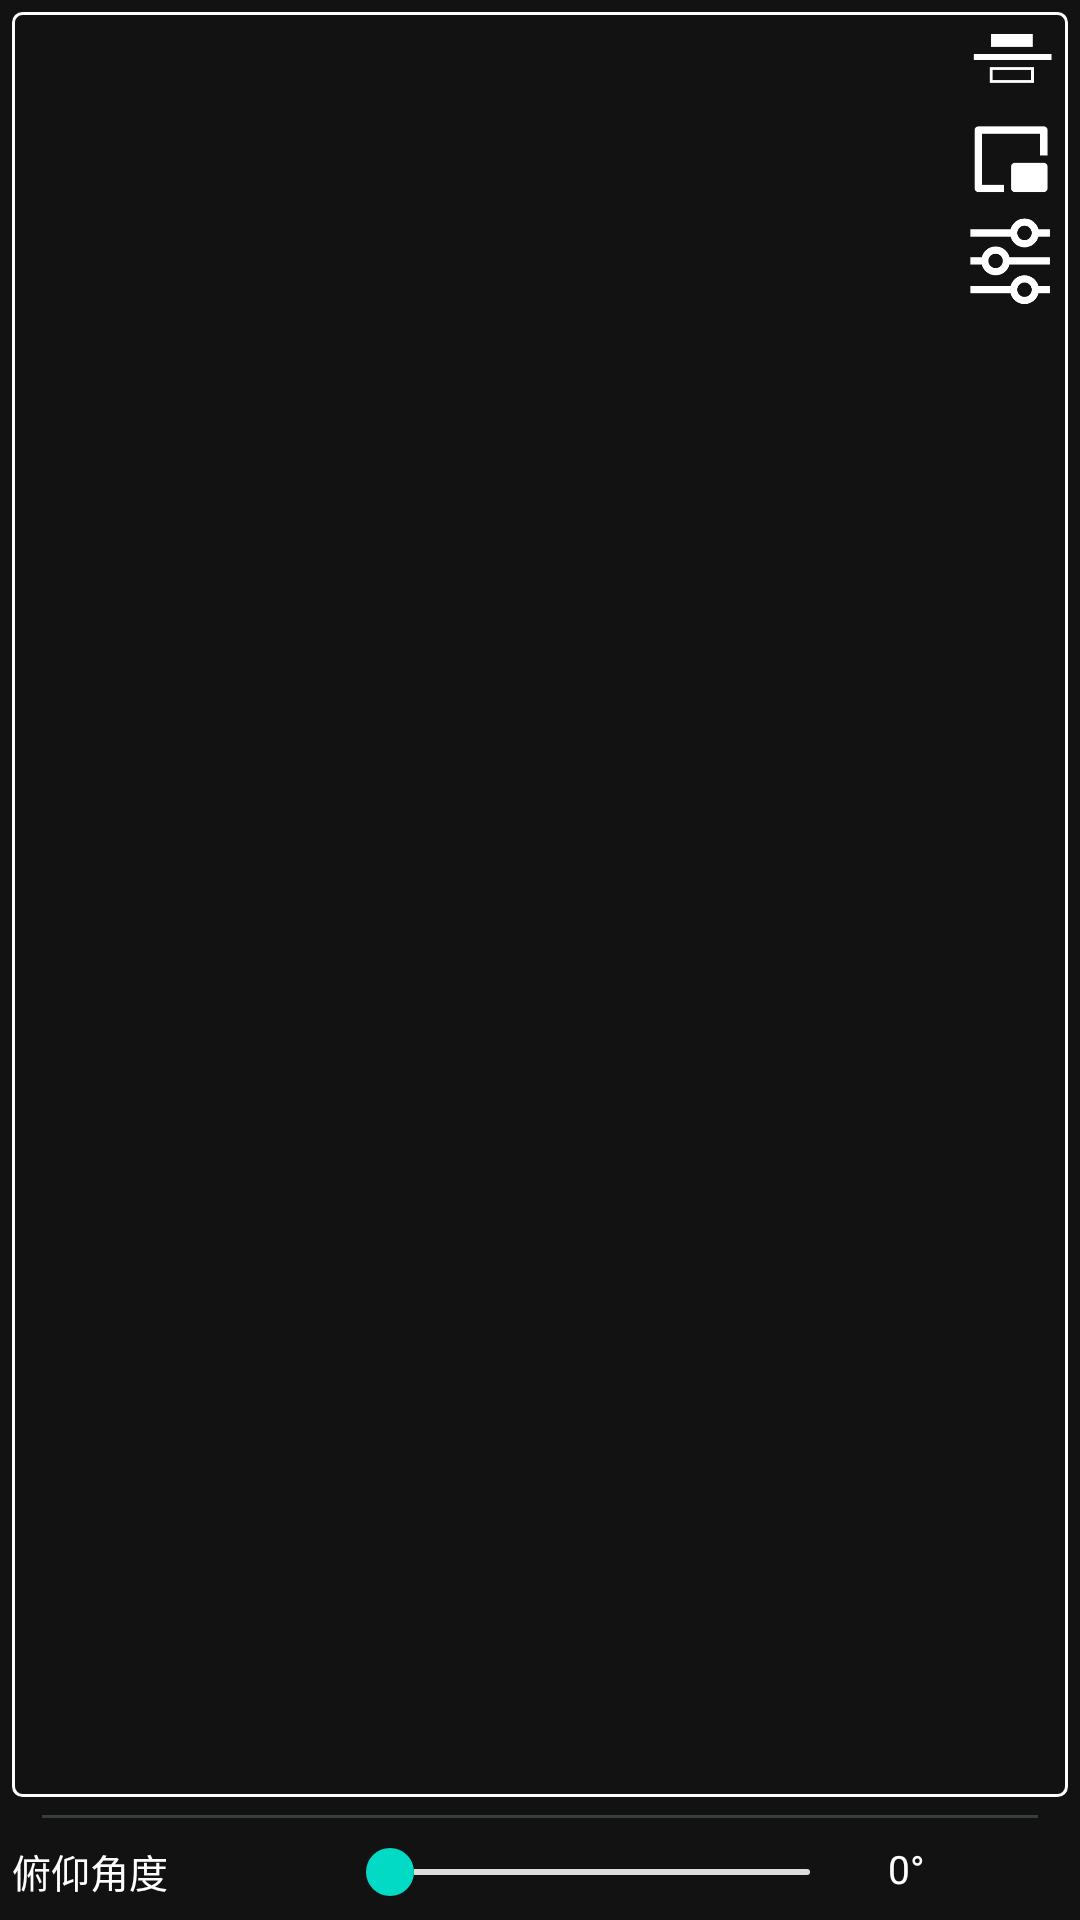

Point at icon controls on the screen. Image size 1080x1920, points as (x=x, y=y).
全屏或恢复悬浮窗状态: (x=1011, y=159)
翻转视频画面180度: (x=1012, y=58)
